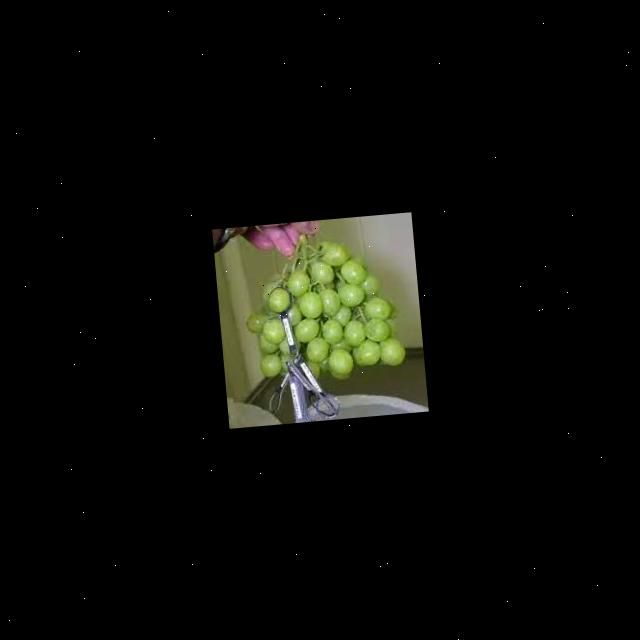grape: (238, 226, 407, 387)
